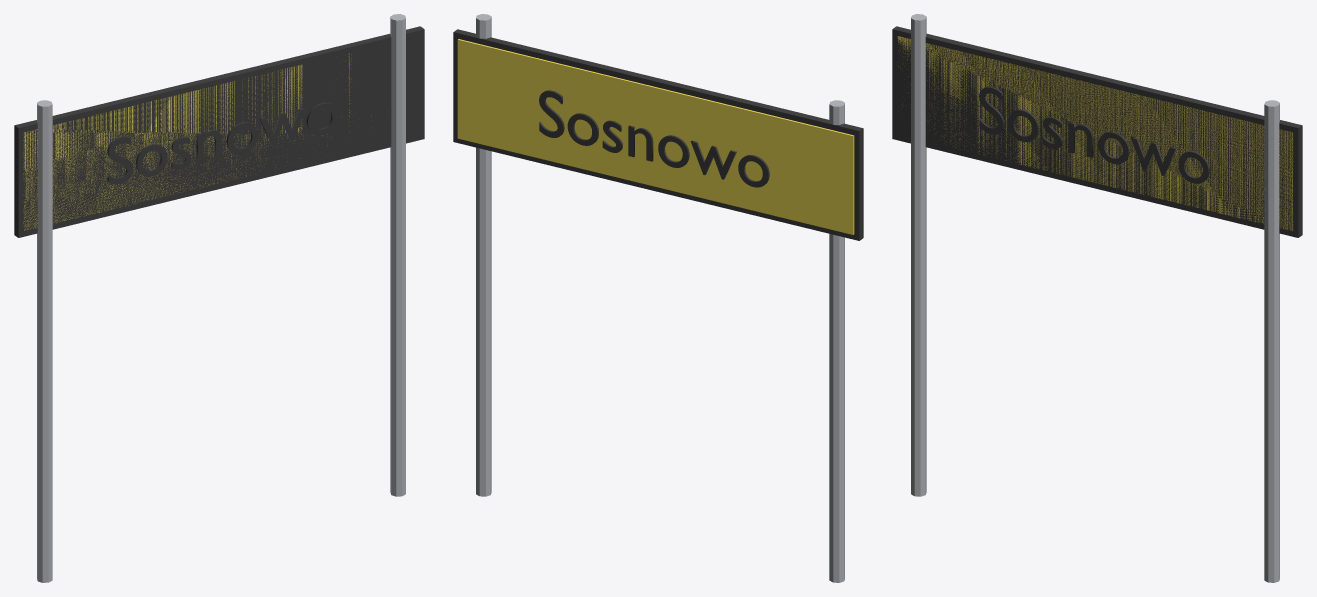
File: Tablica_Sosnowo.fbx
3 views of the same model, side by side, from view 1: azimuth 30°, elevation 25°; view 2: azimuth 150°, elevation 25°; view 3: azimuth 330°, elevation 25° (orthographic).
Visible parts, largest first — view 1: Tablica_Sosnowo; view 2: Tablica_Sosnowo; view 3: Tablica_Sosnowo.
Part boxes in pixels (x1,y1,x2,y2): Tablica_Sosnowo: [14, 14, 424, 582]; Tablica_Sosnowo: [453, 14, 863, 582]; Tablica_Sosnowo: [892, 14, 1302, 582].
Size of the model in its own units: 2.32 by 2.6 by 0.108.
